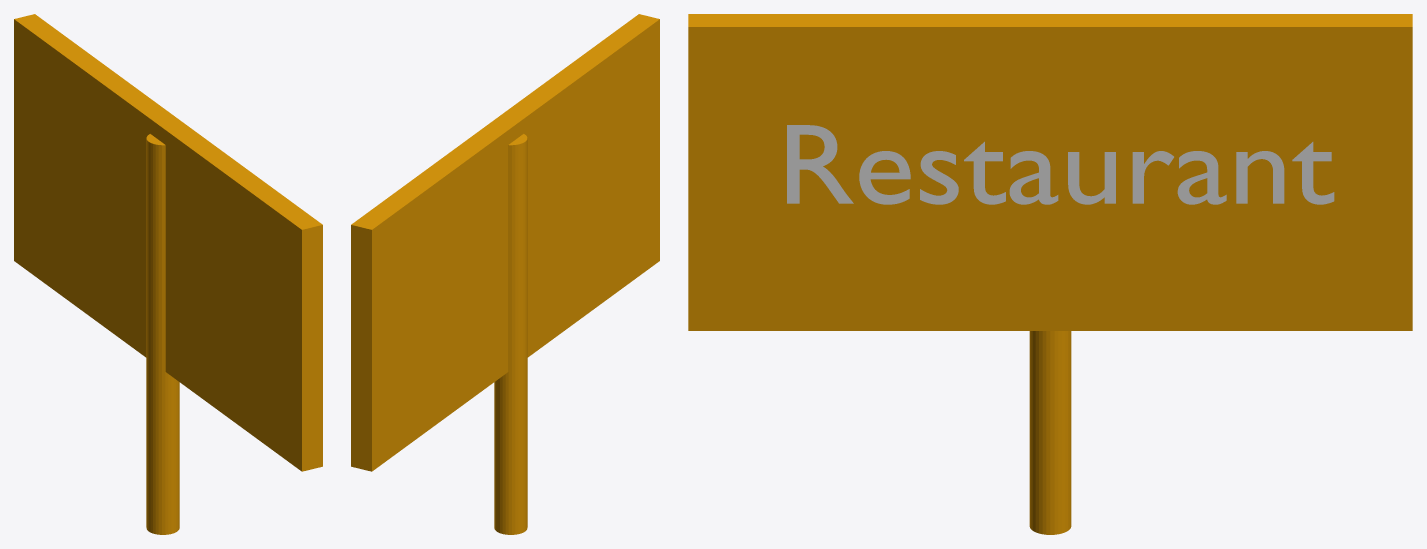
The model's file is Kyltti3.fbx.
3 renders of one model, left to right at view 1: azimuth 30°, elevation 25°; view 2: azimuth 150°, elevation 25°; view 3: azimuth 270°, elevation 25°, orthographic. The views are drawn at different scales.
Parts seen in each view (by area): view 1: Kyltti3, Cylinder.002; view 2: Kyltti3, Cylinder.002; view 3: Kyltti3, Text.004, Cylinder.002.
Boxes of the visible parts, left/top/right/bottom form: Kyltti3: left=14, top=14, right=322, bottom=471; Cylinder.002: left=146, top=134, right=179, bottom=534; Kyltti3: left=351, top=14, right=659, bottom=471; Cylinder.002: left=494, top=134, right=527, bottom=534; Kyltti3: left=688, top=14, right=1412, bottom=330; Text.004: left=787, top=125, right=1334, bottom=204; Cylinder.002: left=1029, top=331, right=1071, bottom=534.
Size of the model in its own units: 36.68 by 442 by 570.
